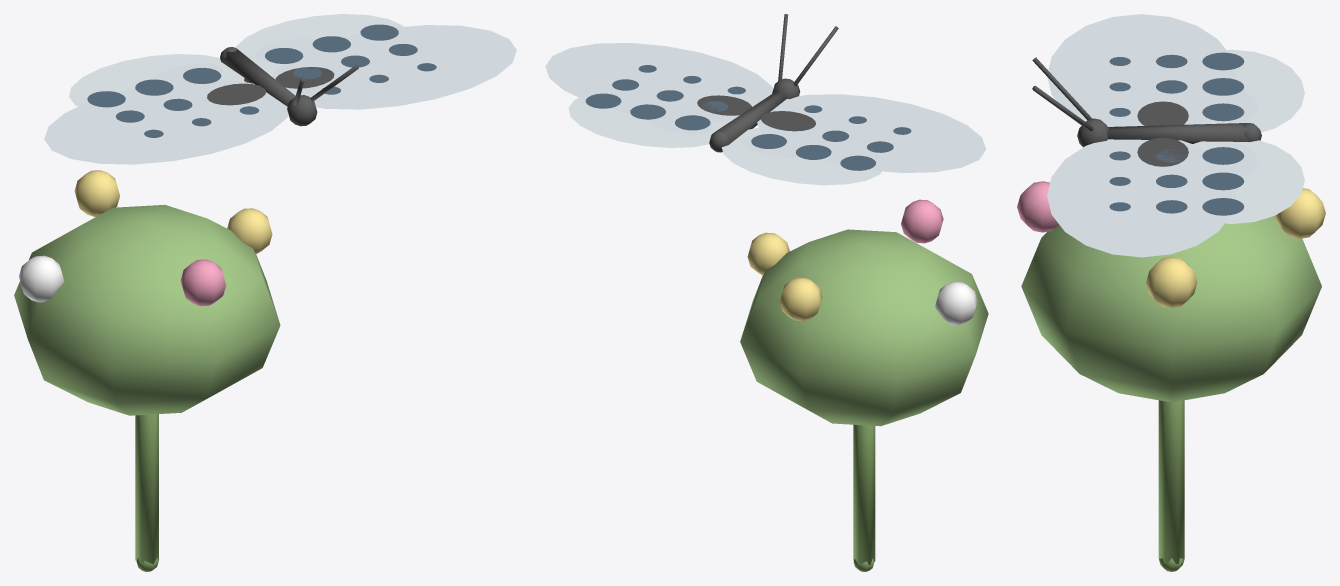
File: ceylon-blue-glassy-tiger.glb
The picture shows the model from 3 angles, left to right: view 1: azimuth 30°, elevation 25°; view 2: azimuth 150°, elevation 25°; view 3: azimuth 270°, elevation 25°; orthographic projection. The views are drawn at different scales.
Visible parts, largest first — view 1: e, wingdisc, wingdisc.013, e.007; view 2: e, wingdisc, wingdisc.013, e.007; view 3: e, wingdisc.013, wingdisc, e.007.
Boxes of the visible parts, x1,y1,x2,y2 form: e: [14, 170, 280, 571]; wingdisc: [44, 54, 288, 164]; wingdisc.013: [235, 14, 516, 109]; e.007: [220, 47, 358, 126]; e: [740, 199, 988, 571]; wingdisc: [722, 94, 986, 185]; wingdisc.013: [545, 43, 773, 147]; e.007: [709, 14, 838, 152]; e: [1017, 181, 1325, 571]; wingdisc.013: [1047, 138, 1304, 257]; wingdisc: [1047, 14, 1304, 132]; e.007: [1032, 57, 1261, 147].
Bounding box in the file's own units: 1.38 × 1.44 × 0.7187.
